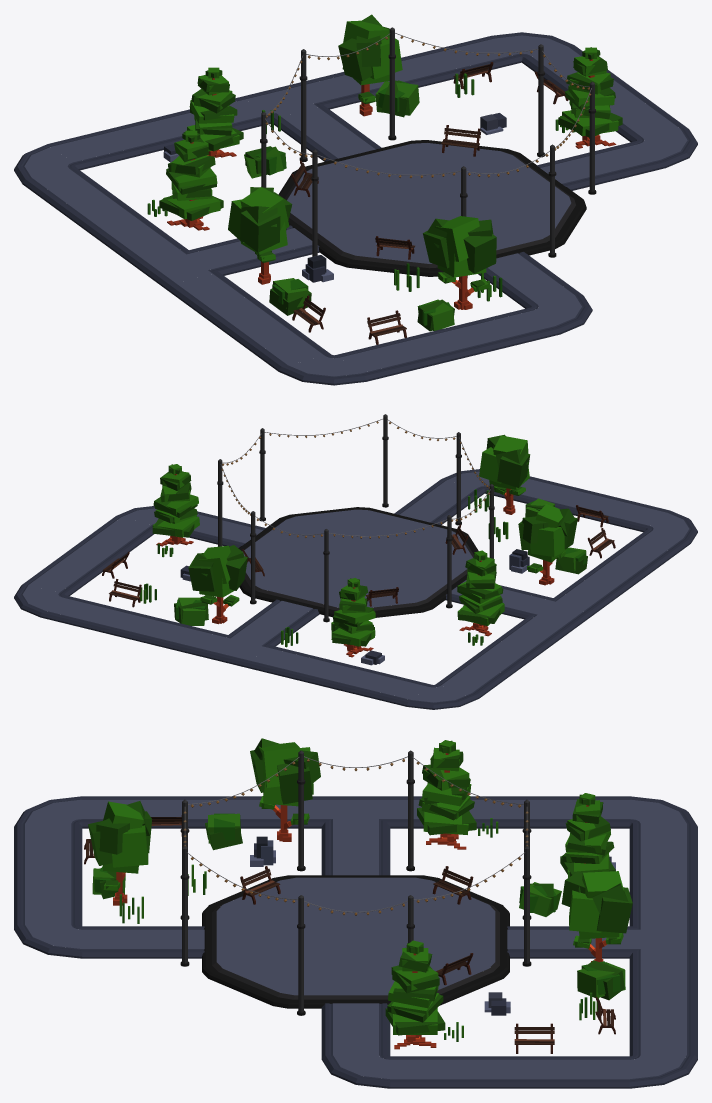
The model's file is MapRef.obj.
The picture shows the model from 3 angles, top to bottom: view 1: azimuth 30°, elevation 25°; view 2: azimuth 150°, elevation 25°; view 3: azimuth 270°, elevation 25°; orthographic projection. The views are drawn at different scales.
Parts seen in each view (by area): view 1: Cube0027, Cube0143, Cube0142, Cube0141, Cube0047, Cube0146, Cube0145, Cube0148, Cube0123, Cube0149, Cube0147, Cube01410 (+40 smaller); view 2: Cube0027, Cube0145, Cube0146, Cube0148, Cube0142, Cube0141, Cube0143, Cube0047, Cube0125, Cube0126, Cube0147, Cube0149 (+30 smaller); view 3: Cube0027, Cube0148, Cube0143, Cube0145, Cube0146, Cube0047, Cube0141, Cube0142, Cube0128, Cube0144, Cube01410, Cube0149 (+46 smaller).
Part boxes in pixels (x1,y1,x2,y2): Cube0027: [287, 143, 571, 263]; Cube0143: [340, 310, 554, 373]; Cube0142: [32, 168, 180, 259]; Cube0141: [176, 274, 324, 364]; Cube0047: [278, 140, 586, 276]; Cube0146: [306, 38, 516, 101]; Cube0145: [51, 99, 261, 162]; Cube0148: [531, 47, 679, 137]; Cube0123: [336, 307, 560, 381]; Cube0149: [488, 253, 574, 304]; Cube0147: [281, 107, 375, 158]; Cube01410: [540, 144, 660, 183]; Cube0027: [242, 509, 472, 607]; Cube0145: [251, 648, 428, 699]; Cube0146: [45, 597, 222, 649]; Cube0148: [29, 517, 151, 592]; Cube0142: [441, 618, 563, 692]; Cube0141: [560, 530, 682, 605]; Cube0143: [520, 479, 666, 525]; Cube0047: [238, 507, 478, 617]; Cube0125: [246, 645, 431, 706]; Cube0126: [40, 595, 225, 656]; Cube0147: [235, 601, 312, 642]; Cube0149: [399, 480, 476, 522]; Cube0027: [216, 877, 495, 995]; Cube0148: [390, 1059, 629, 1079]; Cube0143: [25, 823, 71, 924]; Cube0145: [640, 823, 686, 924]; Cube0146: [640, 953, 686, 1054]; Cube0047: [202, 875, 509, 1008]; Cube0141: [82, 799, 321, 818]; Cube0142: [390, 799, 629, 818]; Cube0128: [390, 1056, 629, 1088]; Cube0144: [333, 823, 378, 875]; Cube01410: [333, 1003, 378, 1054]; Cube0149: [82, 929, 204, 948].
Bounding box in the file's own units: 100 × 21.23 × 100.
